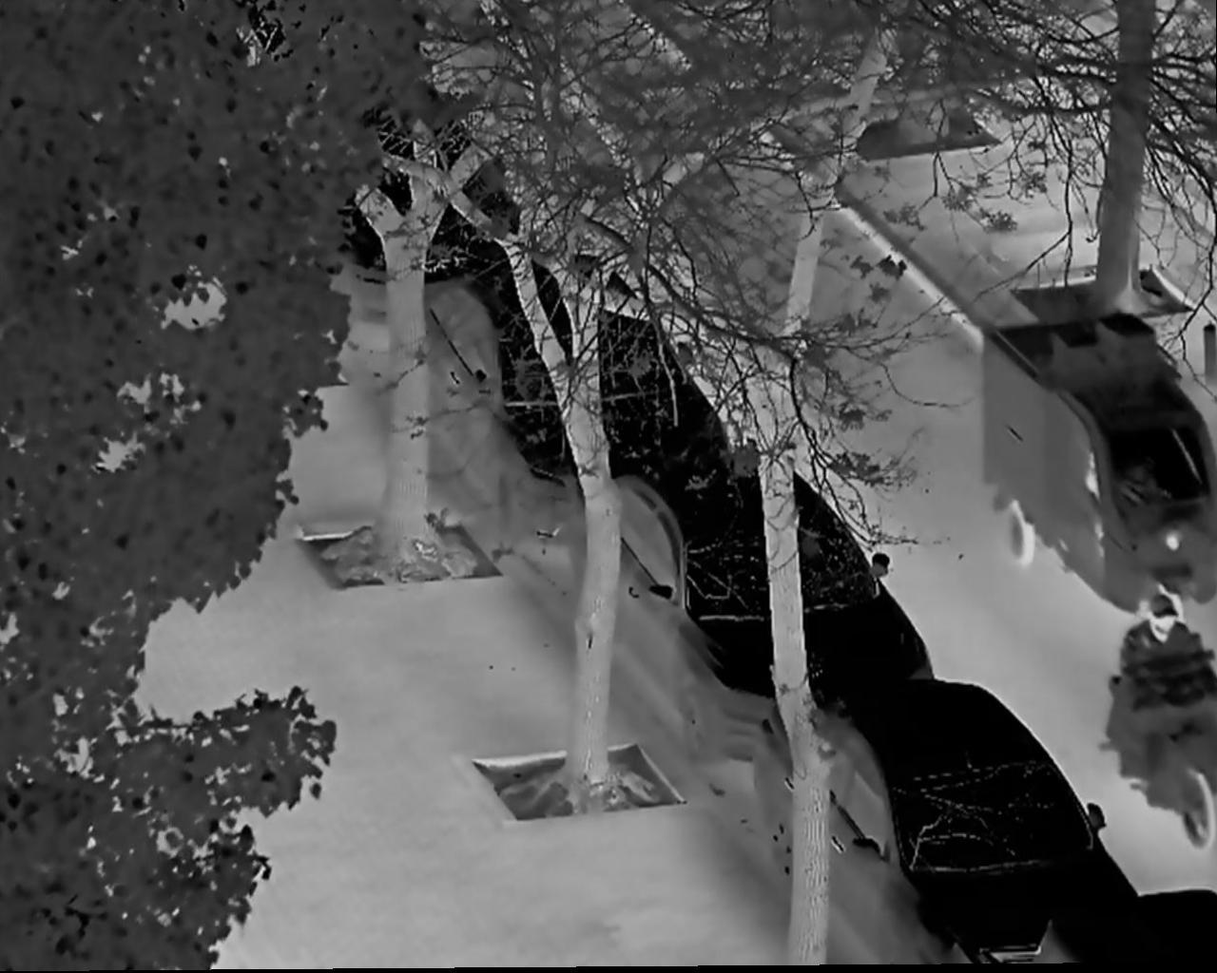person: (1116, 597, 1207, 780)
